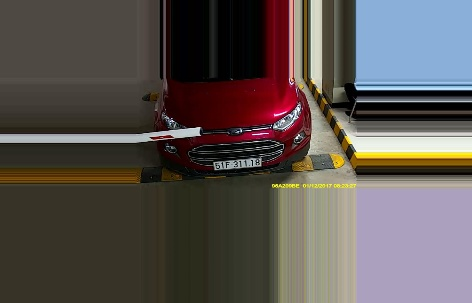plate: (210, 156, 261, 171)
